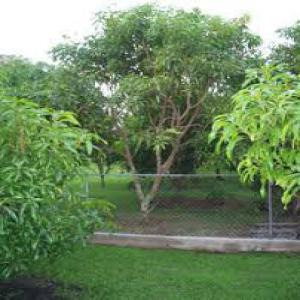Tree: (54, 3, 256, 215)
